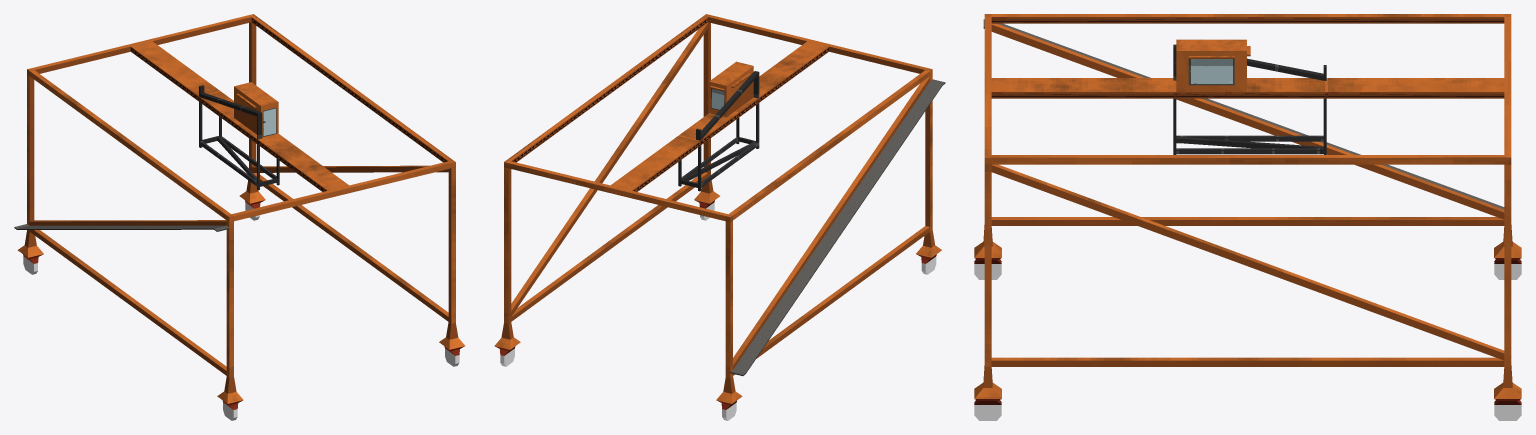
The model's file is Crane2_2.glb.
The picture shows the model from 3 angles, left to right: view 1: azimuth 30°, elevation 25°; view 2: azimuth 150°, elevation 25°; view 3: azimuth 270°, elevation 25°; orthographic projection. The views are drawn at different scales.
Visible parts, largest first — view 1: Cube, Cube.001, Cube.002, Wheels; view 2: Cube, Cube.001, Cube.002, Wheels; view 3: Cube, Cube.001, Cube.002, Wheels.
Part boxes in pixels (x1=…): Cube: x1=14, y1=14, x2=464, y2=409; Cube.001: x1=130, y1=41, x2=348, y2=191; Cube.002: x1=199, y1=82, x2=279, y2=190; Wheels: x1=23, y1=202, x2=459, y2=420; Cube: x1=494, y1=14, x2=945, y2=409; Cube.001: x1=610, y1=41, x2=828, y2=191; Cube.002: x1=678, y1=61, x2=759, y2=191; Wheels: x1=500, y1=202, x2=936, y2=420; Cube: x1=974, y1=14, x2=1521, y2=404; Cube.001: x1=991, y1=78, x2=1504, y2=98; Cube.002: x1=1173, y1=39, x2=1326, y2=154; Wheels: x1=974, y1=264, x2=1521, y2=420.
Size of the model in its own units: 106 by 96.37 by 157.
2 materials, 1 textured.
